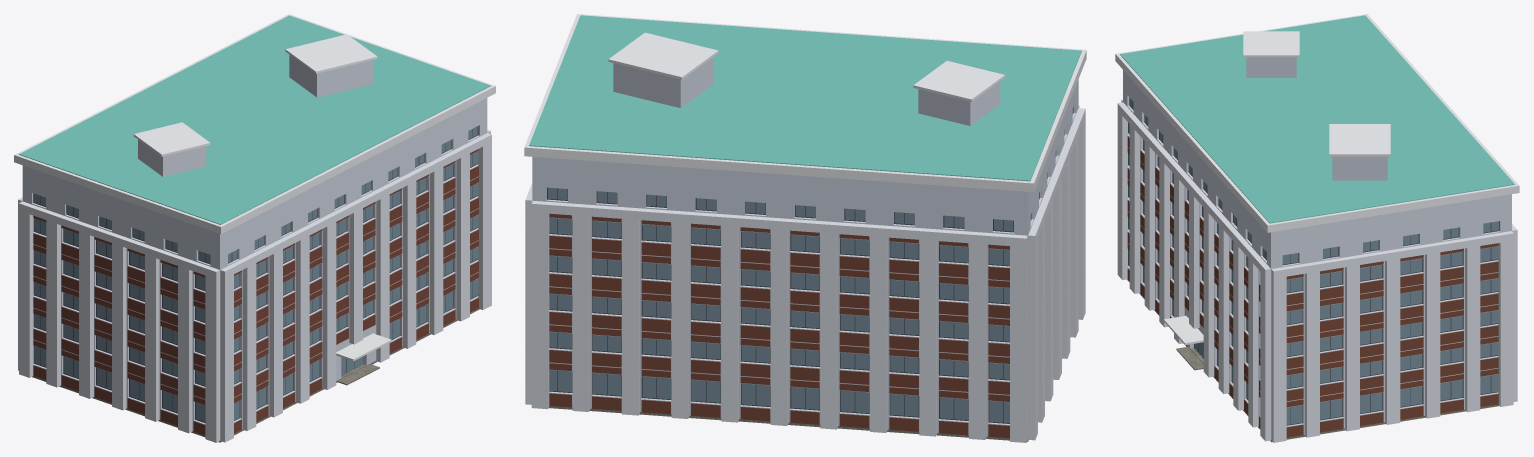
The picture shows the model from 3 angles, left to right: view 1: azimuth 30°, elevation 25°; view 2: azimuth 150°, elevation 25°; view 3: azimuth 270°, elevation 25°; orthographic projection. The views are drawn at different scales.
Parts seen in each view (by area): view 1: kyungbok__pier, kyungbok__greenroof, kyungbok__white, kyungbok__spandrel2, kyungbok__glass, kyungbok__fascia, kyungbok__darkframe, kyungbok__canopy, kyungbok__stone; view 2: kyungbok__pier, kyungbok__greenroof, kyungbok__white, kyungbok__spandrel2, kyungbok__glass, kyungbok__fascia, kyungbok__darkframe, kyungbok__stone; view 3: kyungbok__pier, kyungbok__greenroof, kyungbok__white, kyungbok__spandrel2, kyungbok__glass, kyungbok__fascia, kyungbok__darkframe, kyungbok__canopy, kyungbok__stone.
Boxes of the visible parts, x1=… form: kyungbok__pier: x1=18, y1=129, x2=491, y2=442; kyungbok__greenroof: x1=19, y1=15, x2=490, y2=224; kyungbok__white: x1=22, y1=54, x2=487, y2=440; kyungbok__spandrel2: x1=33, y1=149, x2=478, y2=435; kyungbok__glass: x1=33, y1=126, x2=478, y2=422; kyungbok__fascia: x1=14, y1=14, x2=495, y2=234; kyungbok__darkframe: x1=33, y1=126, x2=478, y2=422; kyungbok__canopy: x1=336, y1=333, x2=391, y2=361; kyungbok__stone: x1=32, y1=308, x2=479, y2=442; kyungbok__pier: x1=525, y1=105, x2=1085, y2=442; kyungbok__greenroof: x1=529, y1=15, x2=1081, y2=181; kyungbok__white: x1=532, y1=57, x2=1078, y2=438; kyungbok__spandrel2: x1=549, y1=213, x2=1009, y2=438; kyungbok__glass: x1=548, y1=108, x2=1073, y2=423; kyungbok__fascia: x1=524, y1=14, x2=1086, y2=191; kyungbok__darkframe: x1=547, y1=107, x2=1073, y2=423; kyungbok__stone: x1=548, y1=406, x2=1028, y2=441; kyungbok__pier: x1=1117, y1=99, x2=1517, y2=442; kyungbok__greenroof: x1=1120, y1=15, x2=1514, y2=223; kyungbok__white: x1=1123, y1=57, x2=1511, y2=439; kyungbok__spandrel2: x1=1127, y1=136, x2=1498, y2=437; kyungbok__glass: x1=1128, y1=98, x2=1498, y2=424; kyungbok__fascia: x1=1115, y1=14, x2=1519, y2=232; kyungbok__darkframe: x1=1128, y1=97, x2=1499, y2=425; kyungbok__canopy: x1=1163, y1=316, x2=1203, y2=344; kyungbok__stone: x1=1127, y1=279, x2=1499, y2=442.
Size of the model in its own units: 49.72 by 27.21 by 40.14.
Materials: 10 (3 with a texture image).
